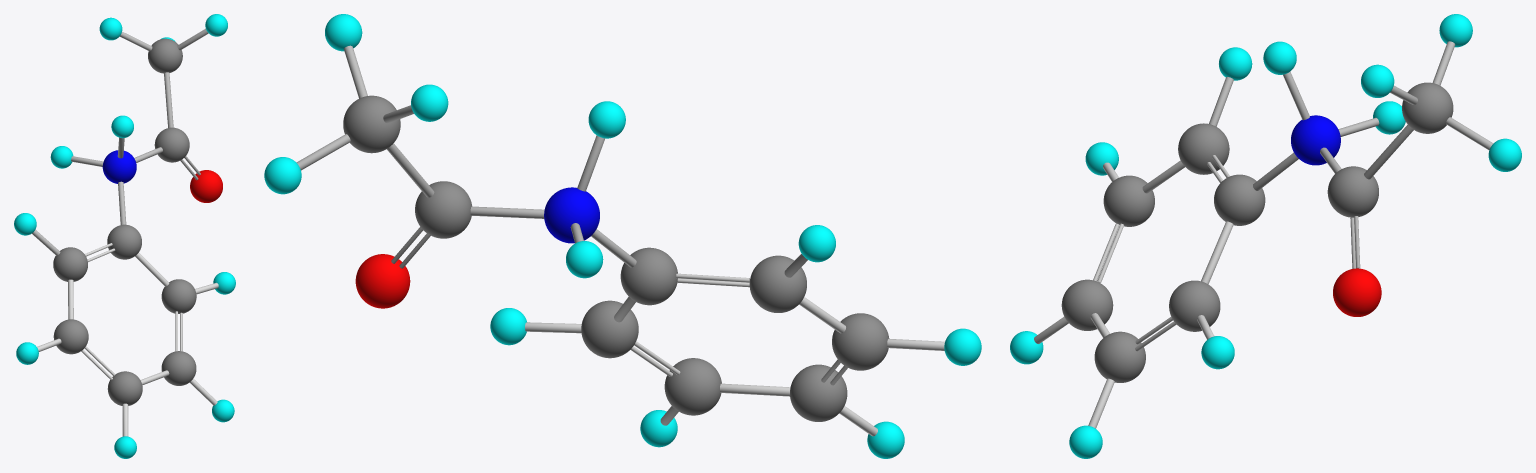
File: acetanilide.glb
3 views of the same model, side by side, from view 1: azimuth 30°, elevation 25°; view 2: azimuth 150°, elevation 25°; view 3: azimuth 270°, elevation 25° (orthographic). The views are drawn at different scales.
Parts seen in each view (by area): view 1: CMAtom_4, CMAtom_3, CMAtom_2, CMAtom_1, CMAtom_16, CMAtom_0, CMAtom_5, CMAtom_14, CMAtom_11, CMAtom_15, CMAtom_18, CMAtom_7 (+11 smaller); view 2: CMAtom_0, CMAtom_5, CMAtom_2, CMAtom_14, CMAtom_3, CMAtom_4, CMAtom_1, CMAtom_16, CMAtom_11, CMAtom_15, CMAtom_19, CMAtom_9 (+9 smaller); view 3: CMAtom_14, CMAtom_0, CMAtom_2, CMAtom_5, CMAtom_1, CMAtom_4, CMAtom_16, CMAtom_3, CMAtom_15, CMAtom_11, CMAtom_6, CMAtom_8 (+10 smaller).
Part boxes in pixels (left/top/right/bottom): CMAtom_4: left=161, top=279, right=196, bottom=313; CMAtom_3: left=107, top=371, right=142, bottom=405; CMAtom_2: left=107, top=224, right=141, bottom=259; CMAtom_1: left=53, top=247, right=87, bottom=281; CMAtom_16: left=148, top=38, right=182, bottom=73; CMAtom_0: left=161, top=351, right=196, bottom=385; CMAtom_5: left=53, top=319, right=88, bottom=354; CMAtom_14: left=154, top=127, right=189, bottom=162; CMAtom_11: left=102, top=150, right=136, bottom=183; CMAtom_15: left=190, top=170, right=222, bottom=202; CMAtom_18: left=99, top=17, right=122, bottom=40; CMAtom_7: left=114, top=436, right=136, bottom=458; CMAtom_0: left=664, top=358, right=721, bottom=415; CMAtom_5: left=832, top=313, right=889, bottom=370; CMAtom_2: left=620, top=247, right=677, bottom=305; CMAtom_14: left=415, top=181, right=472, bottom=238; CMAtom_3: left=790, top=364, right=847, bottom=421; CMAtom_4: left=581, top=300, right=638, bottom=358; CMAtom_1: left=749, top=255, right=806, bottom=312; CMAtom_16: left=343, top=95, right=400, bottom=153; CMAtom_11: left=544, top=187, right=599, bottom=243; CMAtom_15: left=355, top=254, right=410, bottom=308; CMAtom_19: left=264, top=157, right=301, bottom=194; CMAtom_9: left=944, top=328, right=981, bottom=365; CMAtom_14: left=1327, top=166, right=1378, bottom=217; CMAtom_0: left=1094, top=331, right=1145, bottom=382; CMAtom_2: left=1214, top=174, right=1265, bottom=225; CMAtom_5: left=1103, top=175, right=1154, bottom=226; CMAtom_1: left=1178, top=123, right=1229, bottom=174; CMAtom_4: left=1169, top=280, right=1220, bottom=331; CMAtom_16: left=1402, top=82, right=1453, bottom=133; CMAtom_3: left=1061, top=279, right=1113, bottom=330; CMAtom_15: left=1333, top=268, right=1381, bottom=316; CMAtom_11: left=1291, top=115, right=1340, bottom=165; CMAtom_6: left=1069, top=425, right=1102, bottom=458; CMAtom_8: left=1201, top=336, right=1234, bottom=369.
Bounding box in the file's own units: 6.16 × 6.05 × 6.13.
